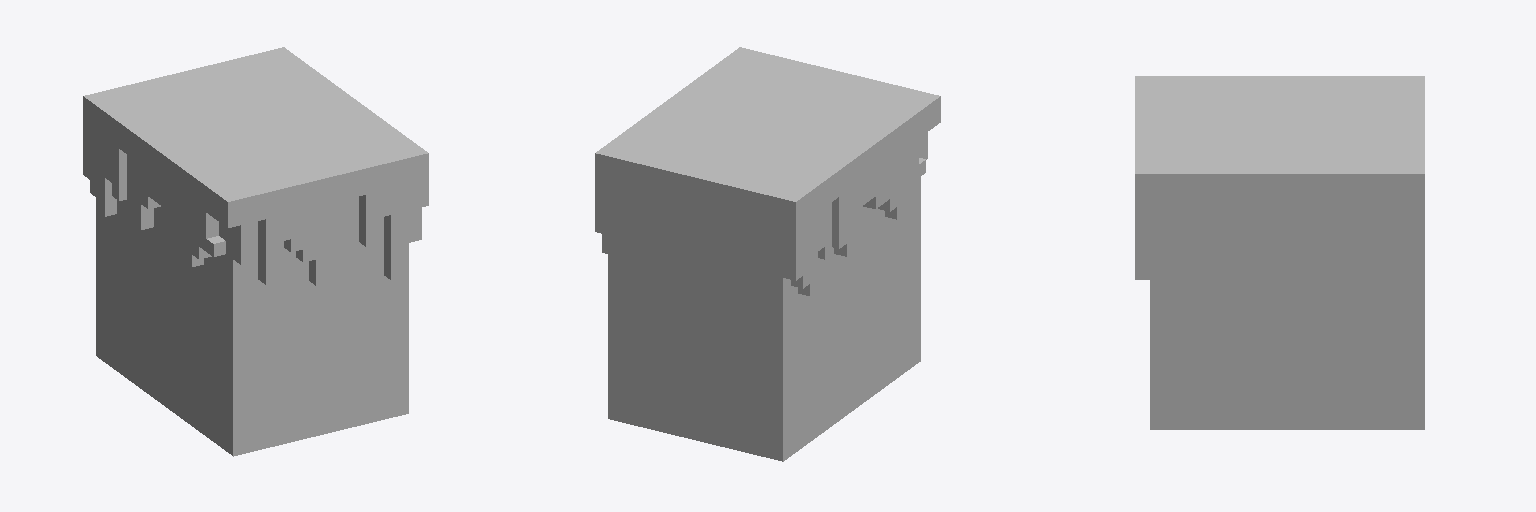
File: sueloPlataform-2.obj
3 views of the same model, side by side, from view 1: azimuth 30°, elevation 25°; view 2: azimuth 150°, elevation 25°; view 3: azimuth 270°, elevation 25° (orthographic).
Visible parts, largest first — view 1: object 1; view 2: object 1; view 3: object 1.
Boxes of the visible parts, x1,y1,x2,y2 form: object 1: [83, 47, 428, 456]; object 1: [595, 47, 940, 461]; object 1: [1135, 76, 1424, 429].
Size of the model in its own units: 1.6 by 2 by 2.